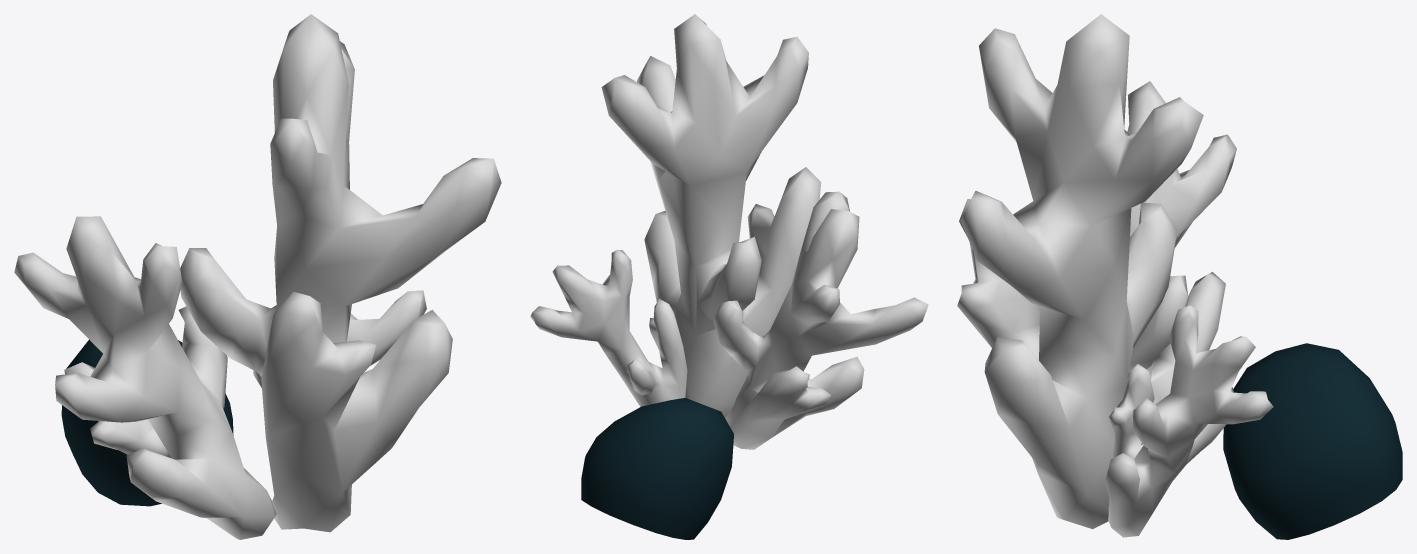
File: singlebleachedcoral2.gltf
The picture shows the model from 3 angles, left to right: view 1: azimuth 30°, elevation 25°; view 2: azimuth 150°, elevation 25°; view 3: azimuth 270°, elevation 25°; orthographic projection. The views are drawn at different scales.
Visible parts, largest first — view 1: Coral.001, Rock 3; view 2: Coral.001, Rock 3; view 3: Coral.001, Rock 3.
Boxes of the visible parts, x1,y1,x2,y2 form: Coral.001: [14, 14, 501, 539]; Rock 3: [61, 339, 233, 506]; Coral.001: [530, 14, 928, 449]; Rock 3: [581, 398, 733, 539]; Coral.001: [957, 14, 1273, 537]; Rock 3: [1223, 343, 1402, 539].
Bounding box in the file's own units: 2.05 × 2.61 × 1.94.
